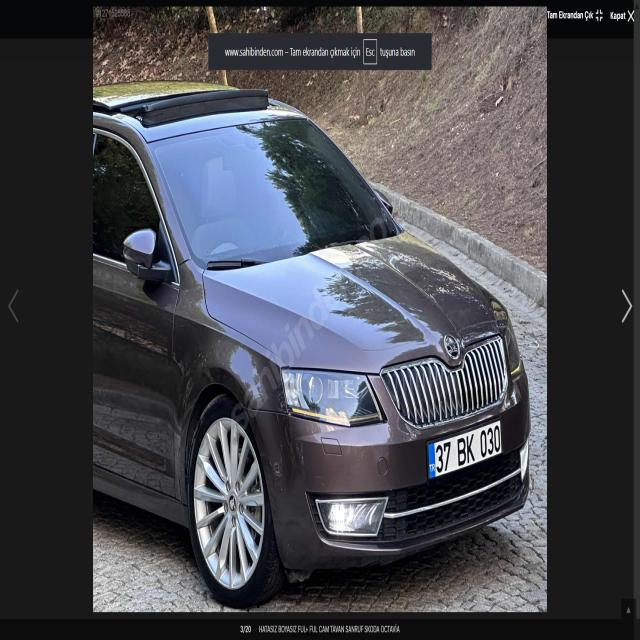skoda: (433, 326, 473, 370)
